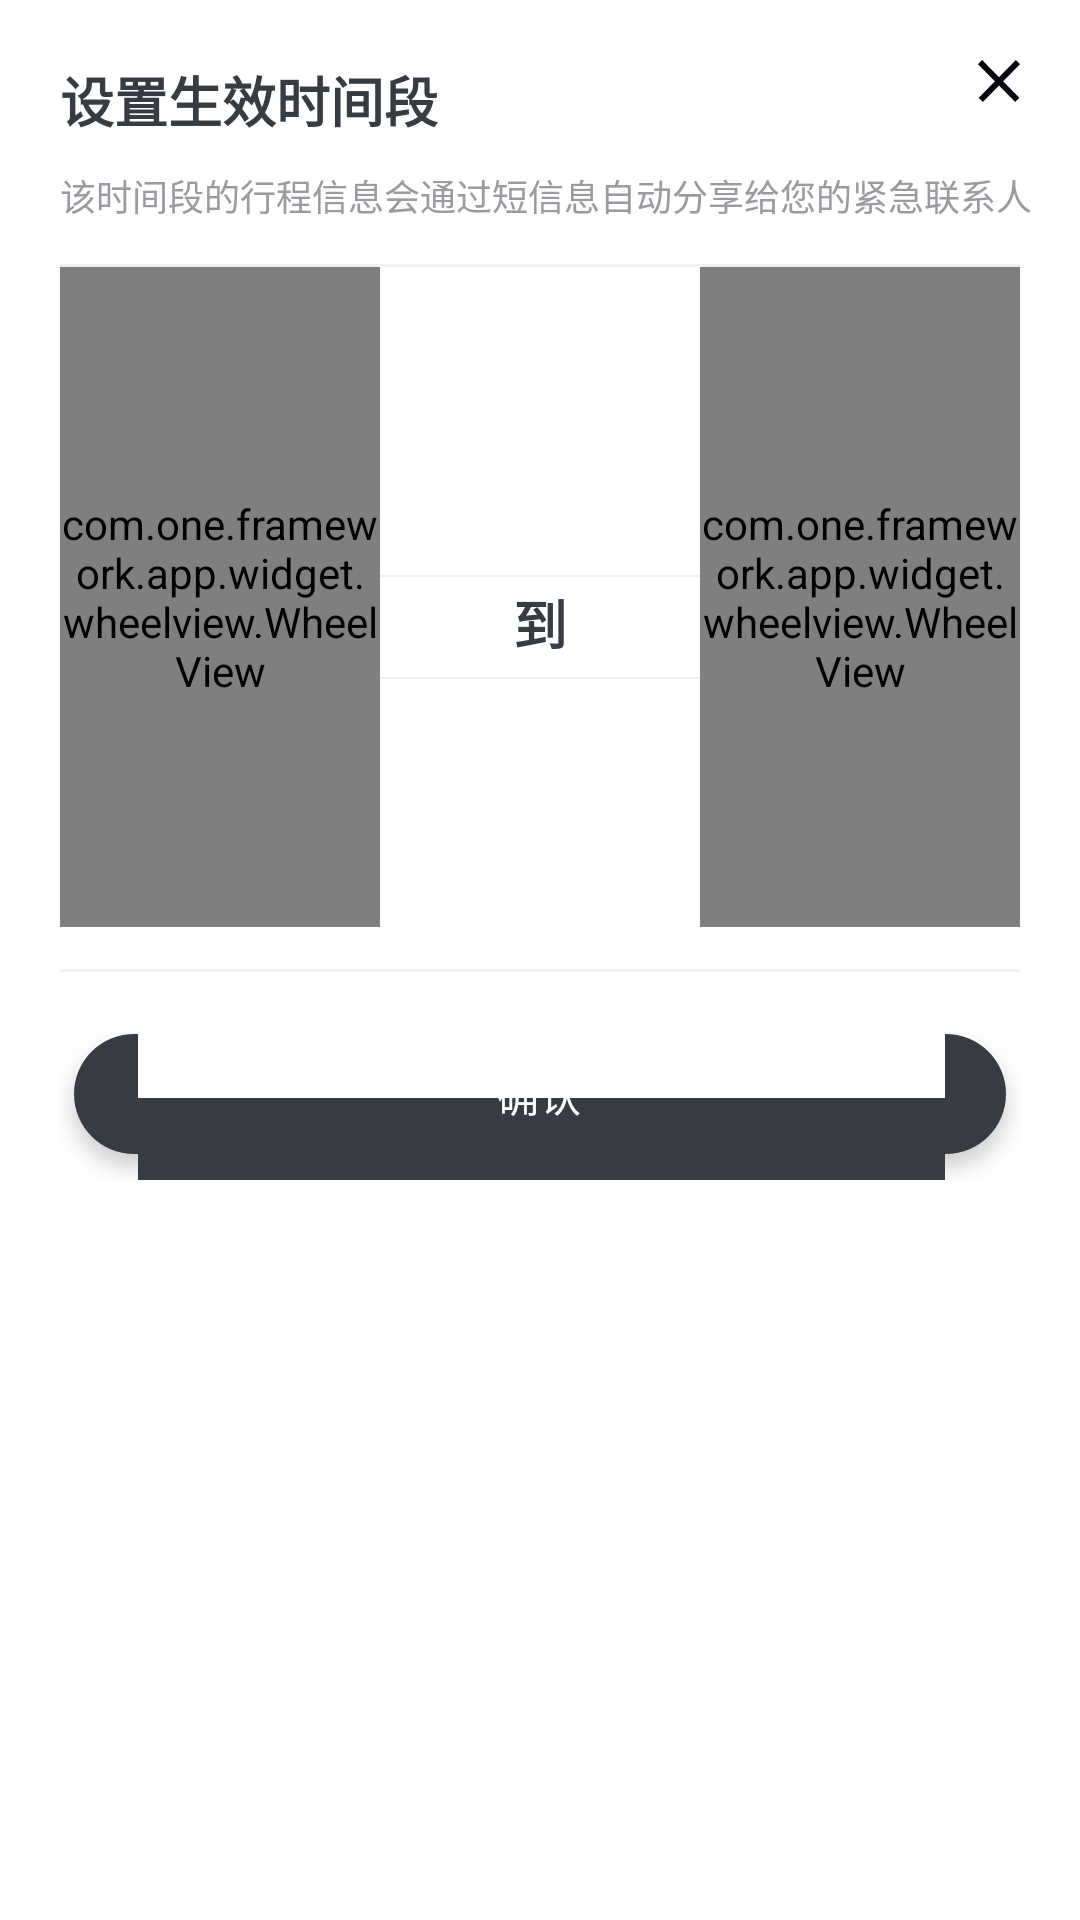

Locate icon controls on the screen. Image size 1080px x 1920px, boxes as (x1, y1, x2, y2).
one time picker close: (978, 60, 1020, 102)
